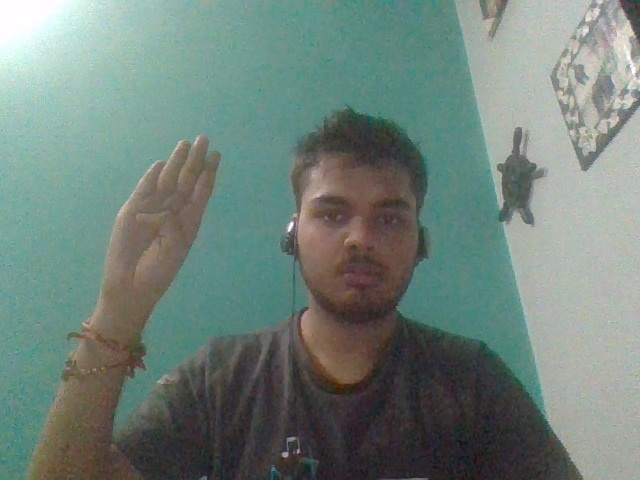hello: (100, 135, 224, 300)
